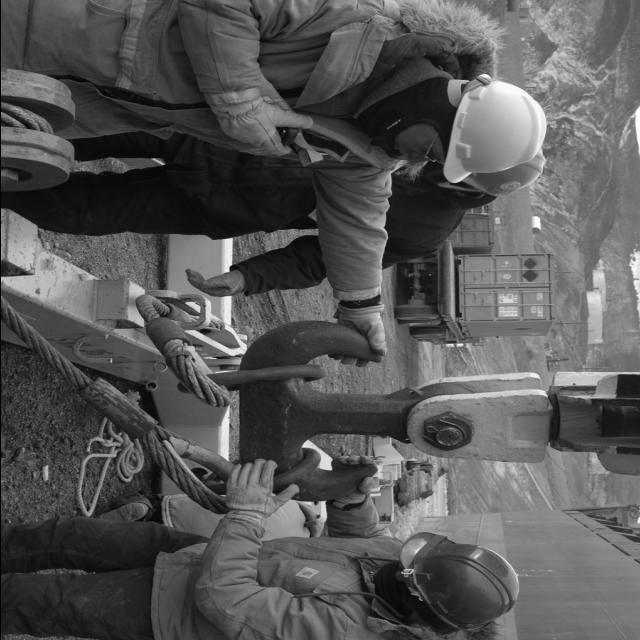construction helmet: (396, 530, 516, 634), (439, 79, 544, 185)
